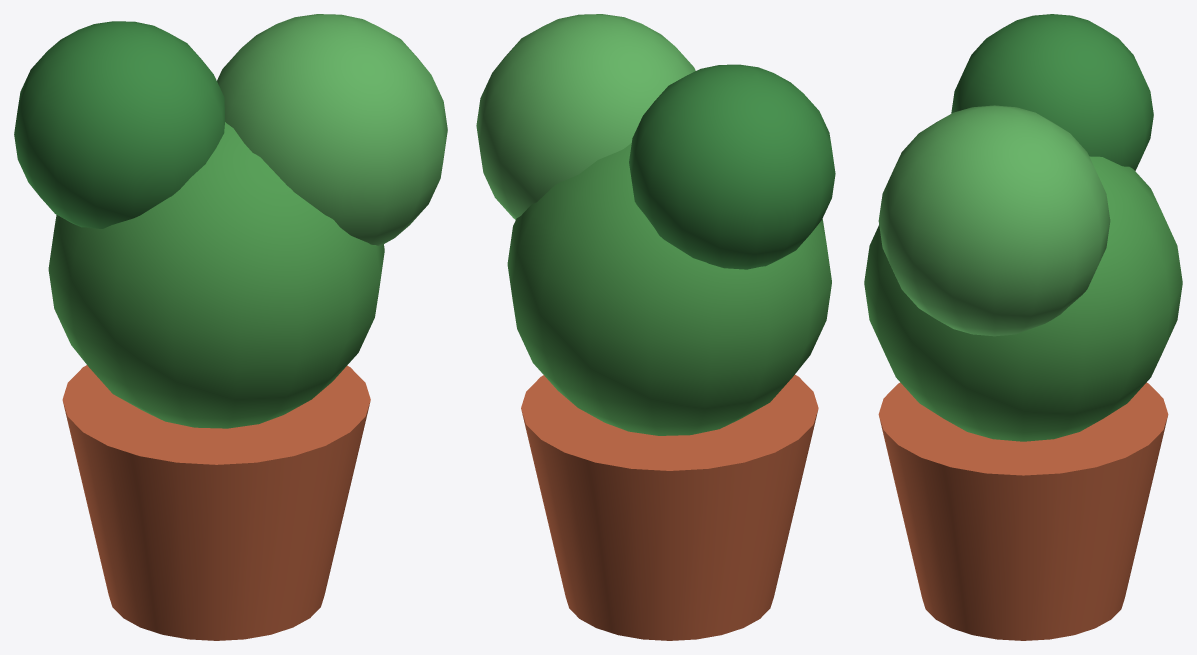
Rendered from plant.glb.
3 renders of one model, left to right at view 1: azimuth 30°, elevation 25°; view 2: azimuth 150°, elevation 25°; view 3: azimuth 270°, elevation 25°, orthographic. The views are drawn at different scales.
Visible parts, largest first — view 1: LeafA, Pot, LeafB, LeafC; view 2: LeafA, Pot, LeafC, LeafB; view 3: Pot, LeafB, LeafA, LeafC.
Part boxes in pixels (x1,y1,x2,y2): LeafA: (48,122,384,428); Pot: (62,365,370,640); LeafB: (217,14,447,246); LeafC: (14,21,225,228); LeafA: (507,143,831,435); Pot: (521,375,818,640); LeafC: (629,64,835,269); LeafB: (476,14,695,219); Pot: (878,382,1168,640); LeafB: (878,105,1110,336); LeafA: (864,156,1182,441); LeafC: (951,14,1153,170).
Bounding box in the file's own units: 0.28 × 0.41 × 0.22.
